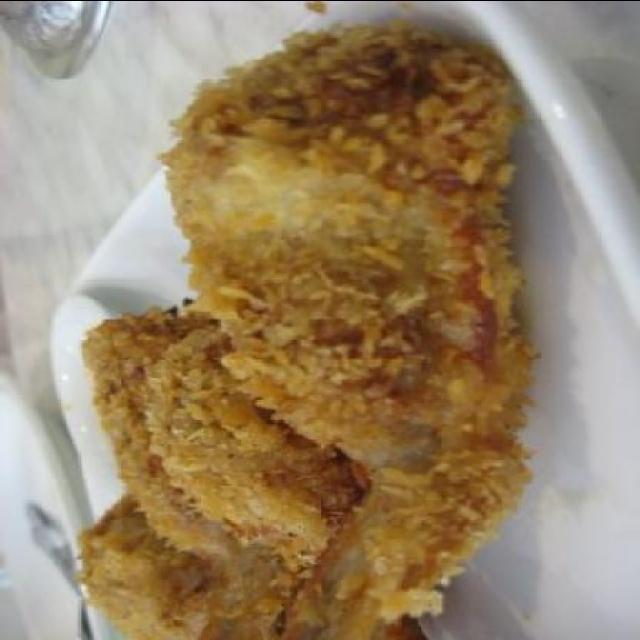Deep fried chicken wing: (72, 19, 516, 624)
